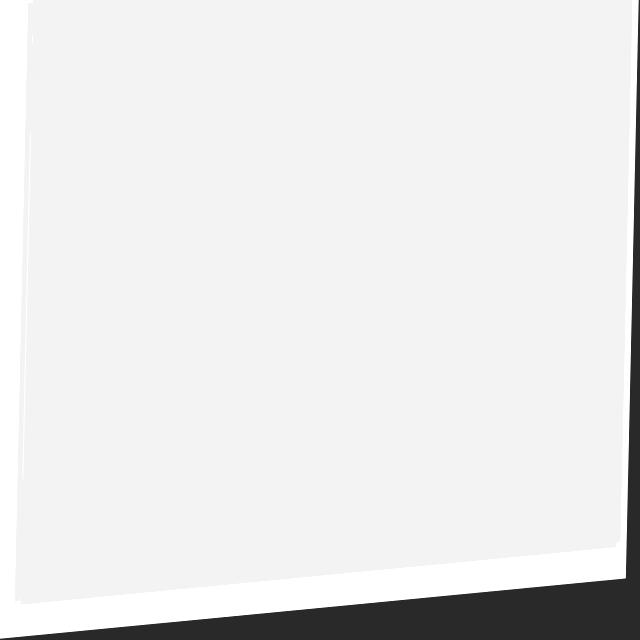qr_code: (17, 0, 634, 606)
